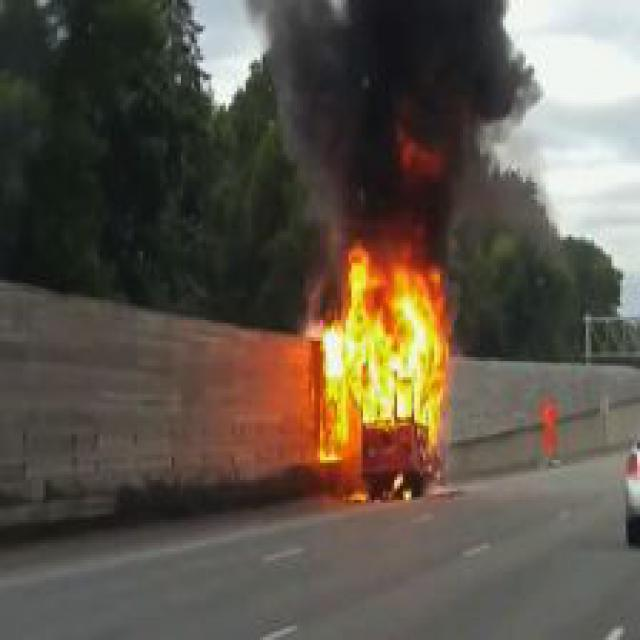fire: (308, 240, 466, 506)
